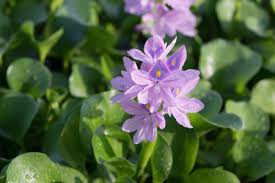water_hyacinth: (1, 34, 275, 182)
